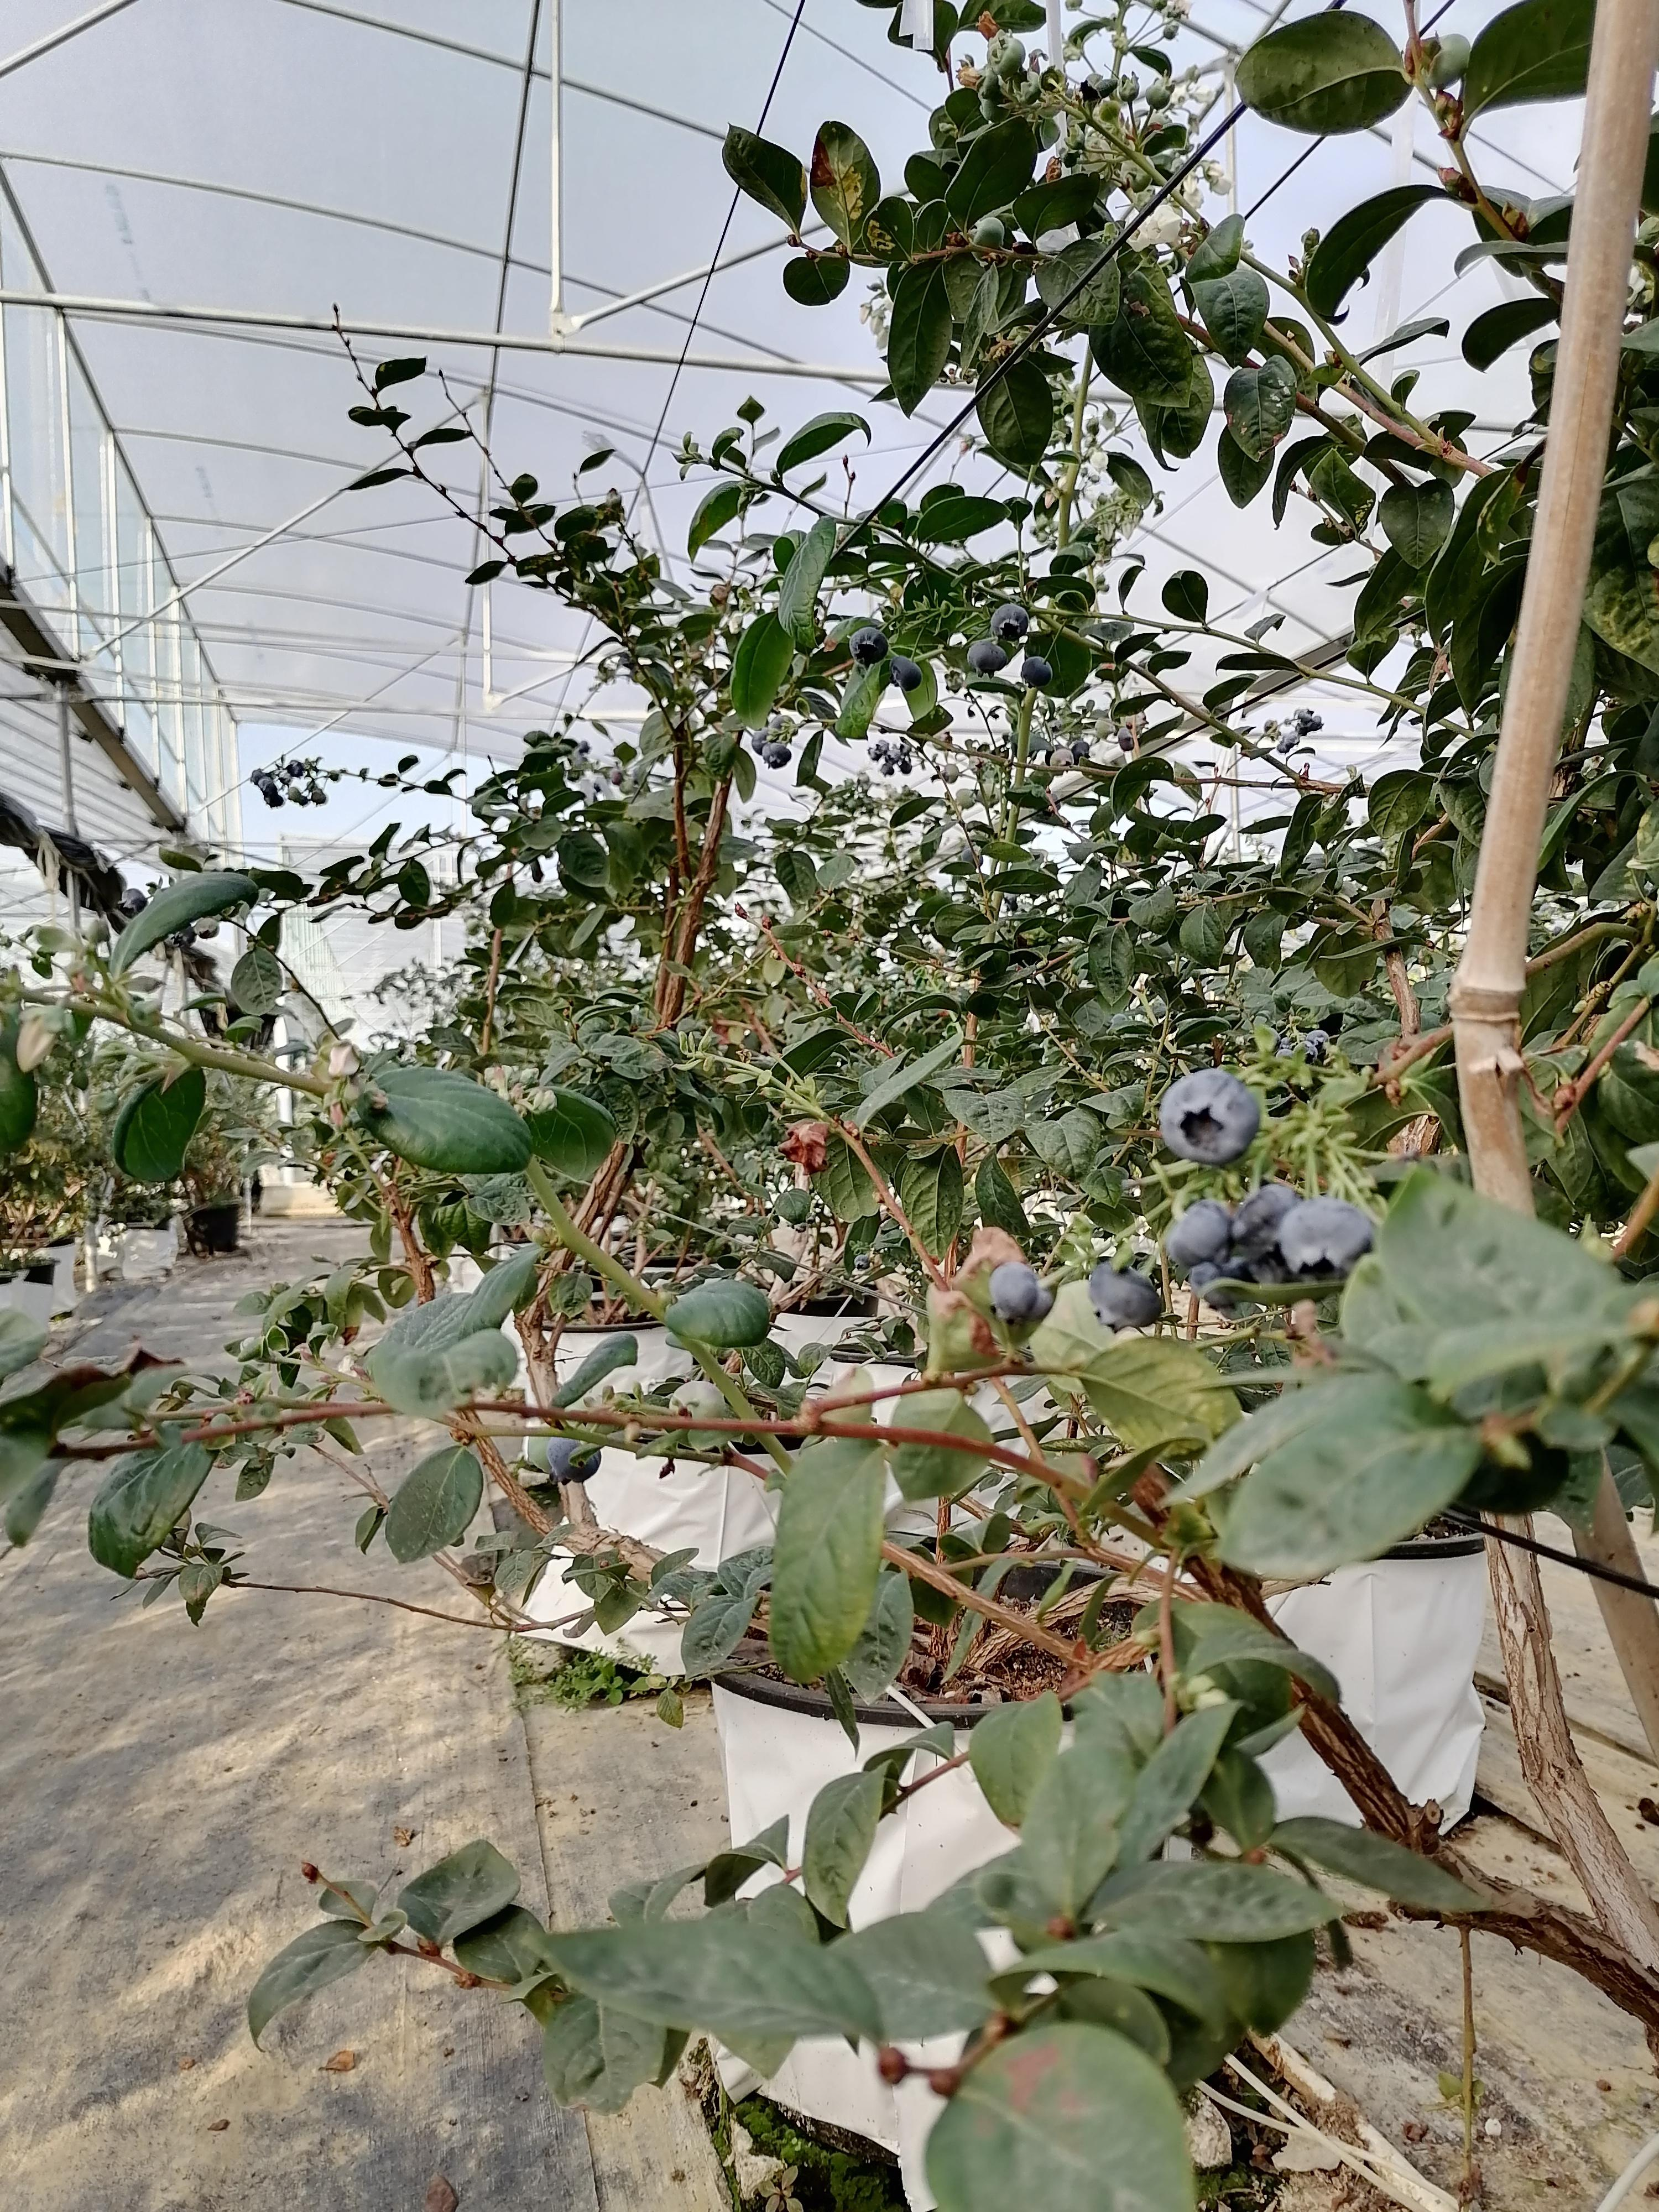ripe-blueberries: (1159, 1068, 1262, 1165), (1281, 1197, 1370, 1287), (1234, 1183, 1303, 1264), (1089, 1263, 1162, 1336), (1169, 1198, 1237, 1270), (990, 1263, 1053, 1325), (547, 1430, 601, 1486), (849, 627, 889, 665), (967, 641, 1007, 679), (1293, 1028, 1330, 1064), (890, 655, 922, 693), (751, 728, 781, 756), (762, 742, 791, 770), (769, 716, 798, 742), (854, 1254, 871, 1270)
